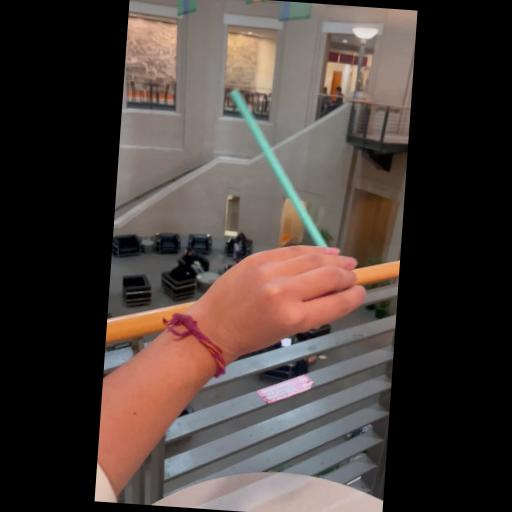straw: (200, 76, 374, 302)
